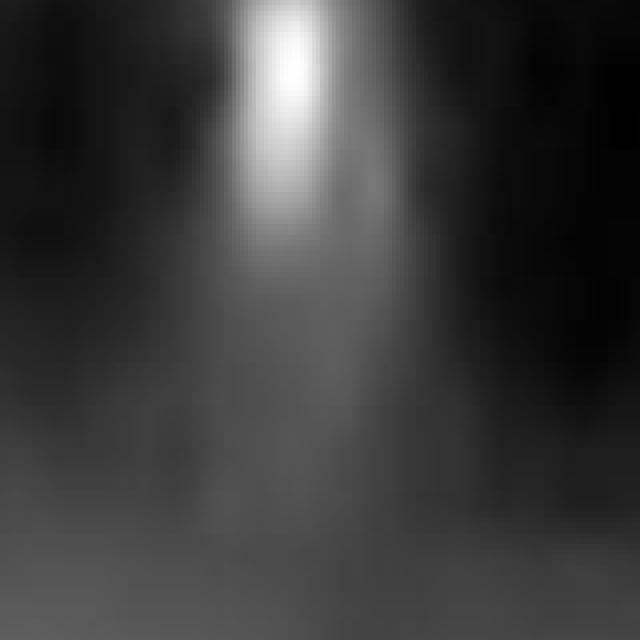person: (209, 1, 421, 433)
